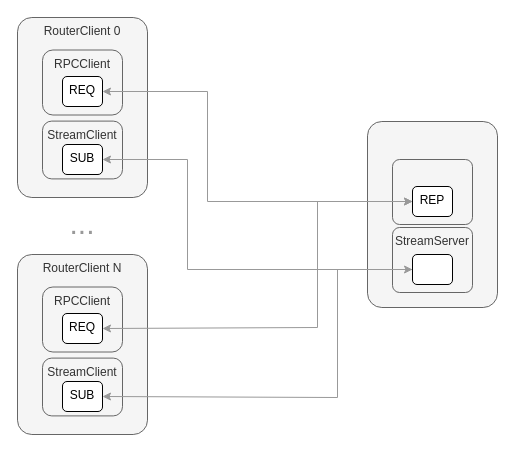
Image size: 515x452. Some labels were removed from this diagram. The shapes that lost their labels are listed below. From the top down, each one's box as (x1, y1, x2, y2) in pixels, then its label:
(392, 158, 472, 224): RPCServer
(366, 120, 498, 308): RouterServer
(412, 254, 452, 284): PUB
